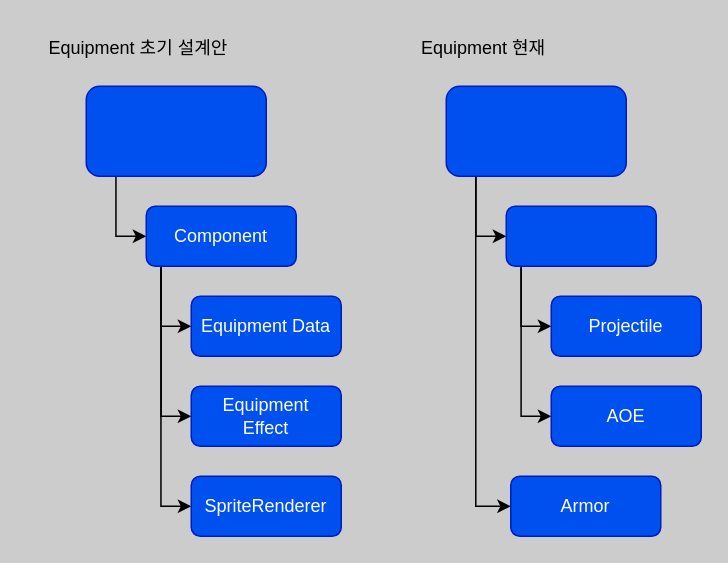
The diagram is 728 pixels wide and 563 high, and some of its shapes have lost their labels. The shapes that lost their labels are listed below. From the top down, each one's centre as x and y in pixels, then its label:
point (175, 130): GameObject
point (535, 130): Equipment
point (580, 235): Weapon
